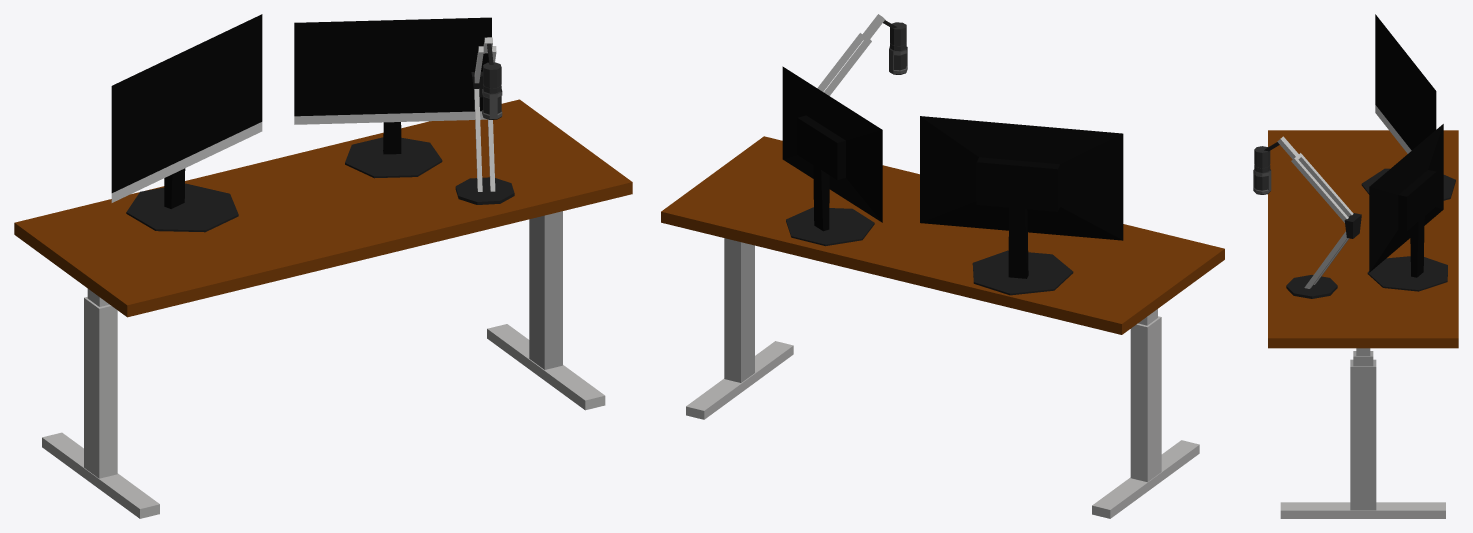
The model's file is desk.fbx.
3 views of the same model, side by side, from view 1: azimuth 30°, elevation 25°; view 2: azimuth 150°, elevation 25°; view 3: azimuth 270°, elevation 25° (orthographic). The views are drawn at different scales.
Parts seen in each view (by area): view 1: Table, Monitor, Monitor.001, Table_Leg.L, Table_Leg.R, Monitor stand.001, Monitor stand, Bottom.R, Bottom.L, Mic stand, Mic holder, Mic; view 2: Table, Monitor.001, Monitor, Table_Leg.L, Table_Leg.R, Monitor stand.001, Monitor stand, Bottom.R, Bottom.L, Mic stand, Mic; view 3: Table, Monitor, Monitor.001, Table_Leg.R, Bottom.R, Monitor stand, Mic stand, Mic holder, Mic, Monitor stand.001, Mic Back.
Part boxes in pixels (<box>): Table: <box>14,99,632,317</box>; Monitor: <box>294,17,491,154</box>; Monitor.001: <box>111,14,262,208</box>; Table_Leg.L: <box>84,289,117,478</box>; Table_Leg.R: <box>529,211,562,369</box>; Monitor stand.001: <box>126,183,238,232</box>; Monitor stand: <box>345,137,442,178</box>; Bottom.R: <box>487,324,605,410</box>; Bottom.L: <box>42,432,159,518</box>; Mic stand: <box>474,37,496,191</box>; Mic holder: <box>455,177,514,204</box>; Mic: <box>482,62,502,119</box>; Table: <box>661,136,1224,334</box>; Monitor.001: <box>920,116,1123,278</box>; Monitor: <box>782,66,882,231</box>; Table_Leg.L: <box>1130,309,1161,482</box>; Table_Leg.R: <box>724,238,754,382</box>; Monitor stand.001: <box>972,250,1073,295</box>; Monitor stand: <box>786,207,874,246</box>; Bottom.R: <box>686,341,793,419</box>; Bottom.L: <box>1092,440,1199,518</box>; Mic stand: <box>817,14,885,95</box>; Mic: <box>889,22,907,74</box>; Table: <box>1268,130,1458,348</box>; Monitor: <box>1369,124,1443,277</box>; Monitor.001: <box>1375,14,1436,153</box>; Table_Leg.R: <box>1350,348,1376,510</box>; Bottom.R: <box>1280,502,1445,518</box>; Monitor stand: <box>1367,256,1447,291</box>; Mic stand: <box>1277,136,1353,288</box>; Mic holder: <box>1286,275,1337,298</box>; Mic: <box>1253,146,1271,194</box>; Monitor stand.001: <box>1361,168,1455,200</box>; Mic Back: <box>1344,213,1361,238</box>.
Bounding box in the file's own units: 1912 × 1431 × 797.
